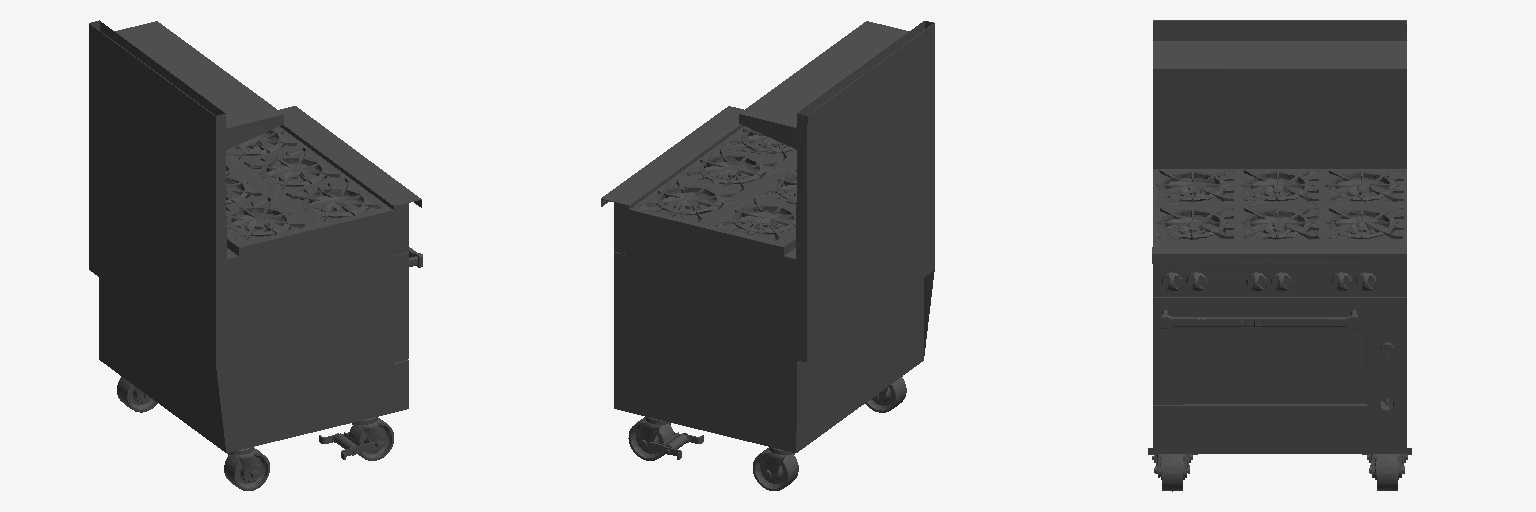
URDF robot description (stove_burner):
<?xml version="1.0"?>
<robot name="stove_burner">
<link name="stove_burner_base_link">
  <inertial>
    <mass value="0.0"/>
    <origin xyz="0 0 0" rpy="1.57 0 3.14"/>
    <inertia ixx="0.01" ixy="0" ixz="0" iyy="0.01" iyz="0" izz="0.01"/>
  </inertial>

  <visual>
    <origin xyz="0 0 0" rpy="1.57 0 3.14"/>
    <geometry>
      <mesh filename="package://meshes/stove_burner.dae" scale="1 1 1"/>
    </geometry>
    <material name="material_name">
      <color rgba="0.35 0.35 0.35 1.0"/>
    </material>
  </visual>

  <collision>
    <origin xyz="0 0 0" rpy="1.57 0 3.14"/>
    <geometry>
      <mesh filename="package://meshes/stove_burner.dae" scale="1 1 1"/> 
      
      </geometry>
  </collision>
</link>
</robot>

--- Render facts (derived) ---
Views: 3 orthographic renders of the robot side by side, from view 1: azimuth 30°, elevation 25°; view 2: azimuth 150°, elevation 25°; view 3: azimuth 270°, elevation 25°.
Robot: stove_burner — 1 links, 0 joints (none); root link stove_burner_base_link; default pose: every joint at zero.
Visible links, largest first — view 1: stove_burner_base_link; view 2: stove_burner_base_link; view 3: stove_burner_base_link.
Boxes of the visible links, x1,y1,x2,y2 form: stove_burner_base_link: (89,20,422,490); stove_burner_base_link: (601,21,934,490); stove_burner_base_link: (1148,20,1411,491).
Bounding box of the posed robot: 0.8818 × 0.9525 × 1.54 m (x, y, z).
Meshes: 1 distinct files referenced, 1 mesh visuals loaded (1 Collada DAE).
